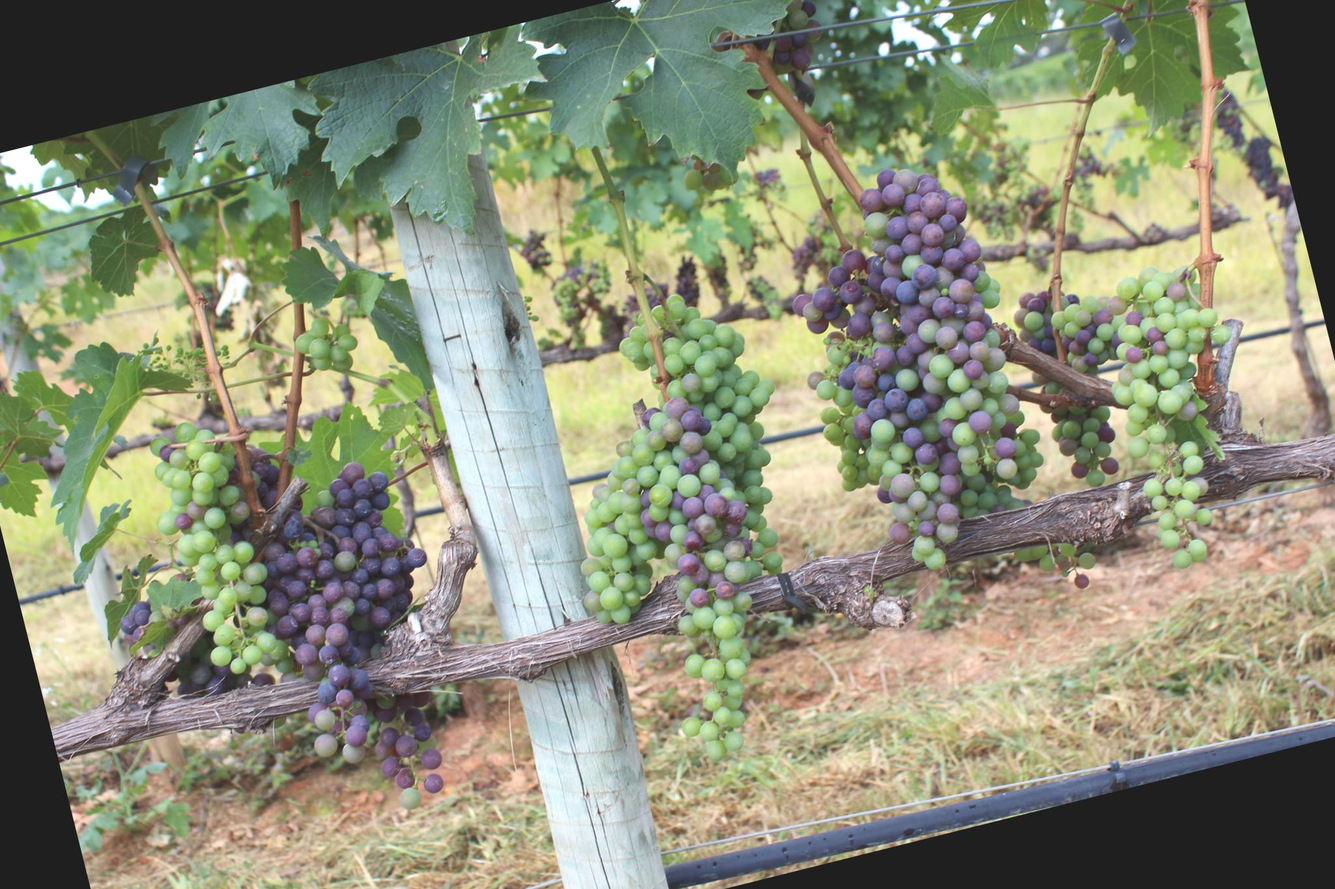Grape Ripe: (303, 452, 469, 812), (258, 531, 383, 770)
Grape Unripe: (1086, 261, 1267, 574), (140, 414, 288, 682), (552, 438, 673, 629), (290, 308, 359, 383)
